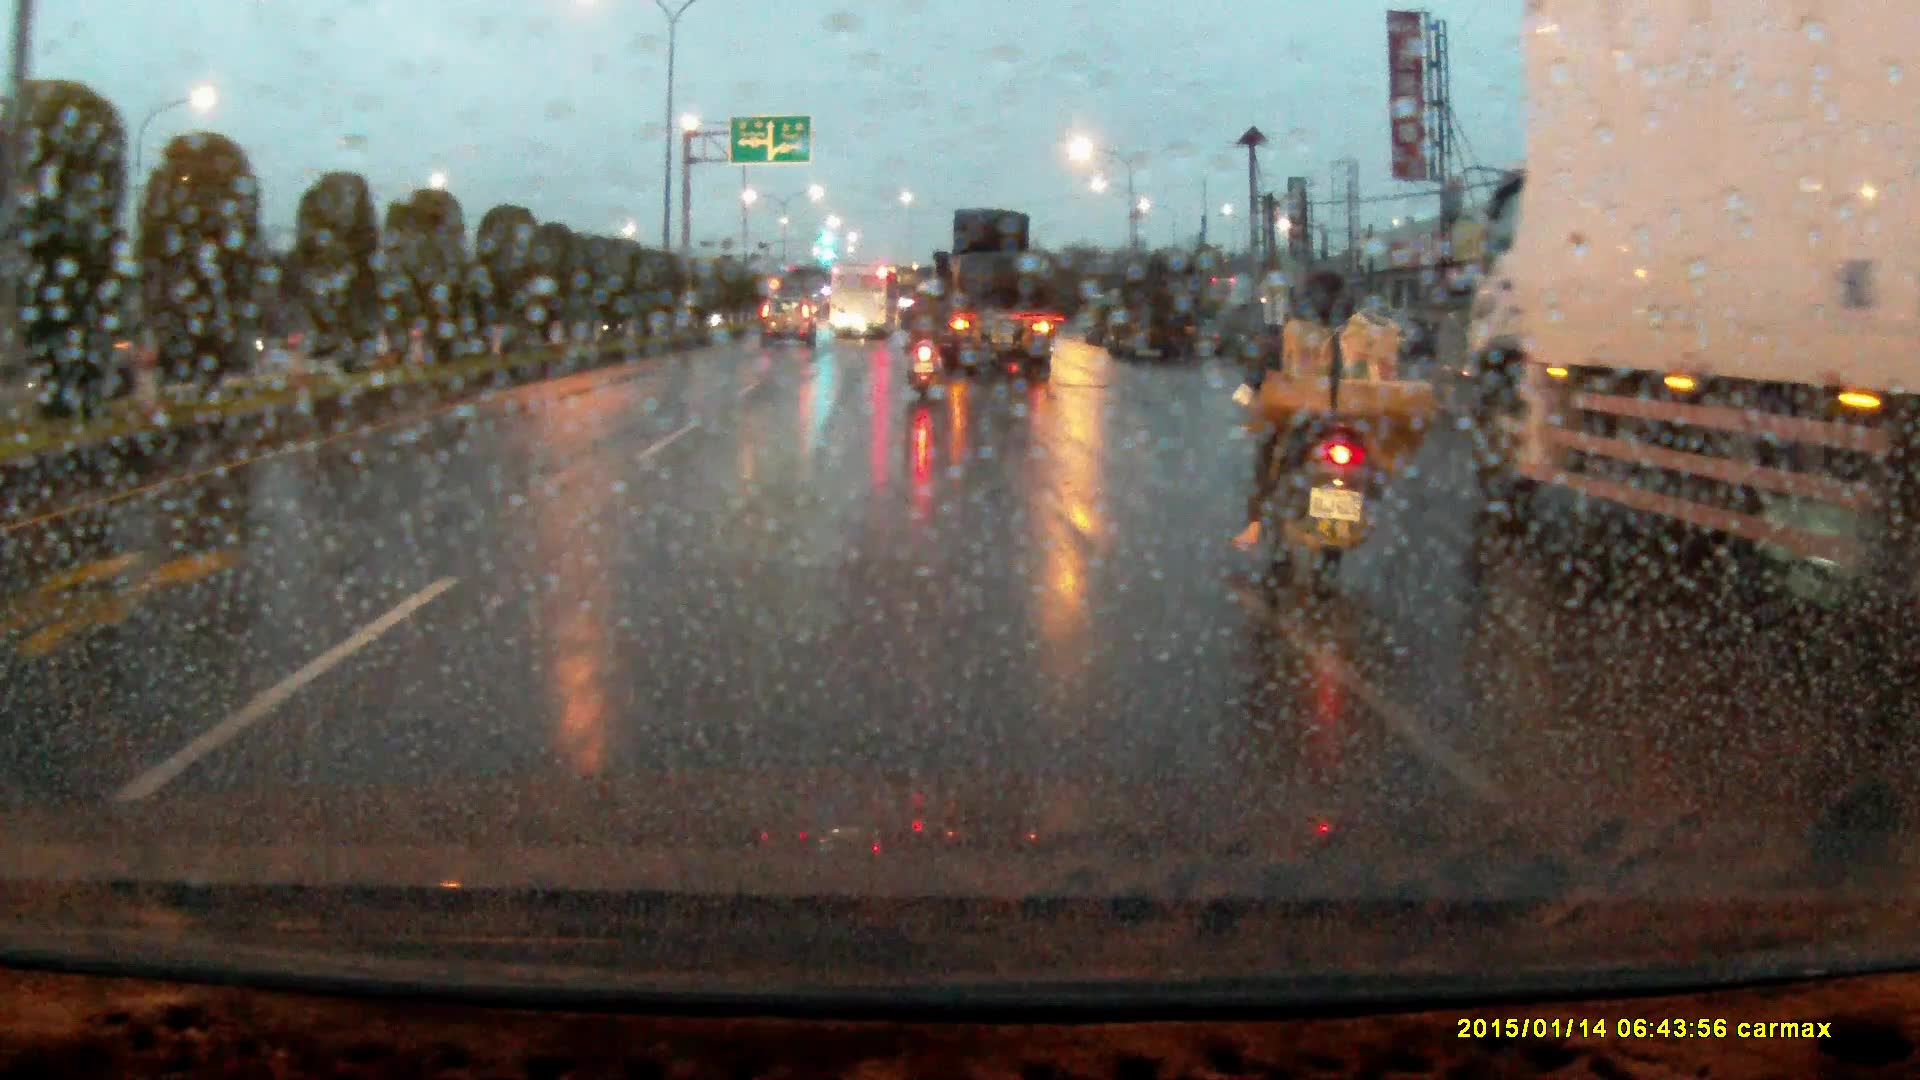rider: (1228, 253, 1442, 597), (907, 279, 952, 395)
vehicle: (1451, 1, 1920, 593), (912, 208, 1056, 383), (1114, 259, 1201, 360), (831, 265, 900, 343), (762, 291, 819, 341), (1081, 294, 1124, 346)
